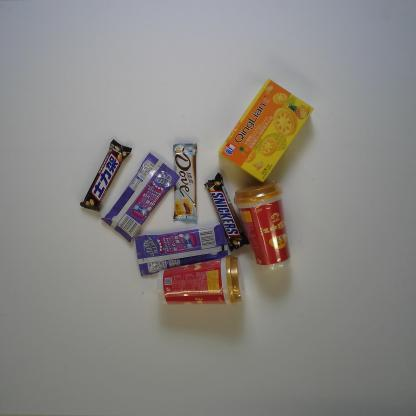Candy: (100, 152, 181, 245), (134, 222, 230, 280)
Chocolate: (80, 139, 132, 213), (204, 173, 249, 251), (171, 142, 199, 224)
Dessert: (216, 77, 314, 184)
Instant Drink: (233, 182, 294, 272), (158, 254, 245, 310)
